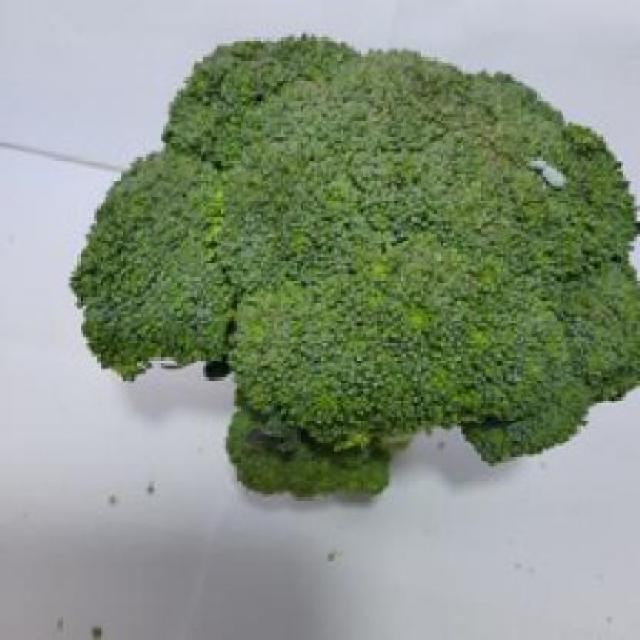broccoli: (85, 31, 638, 498)
